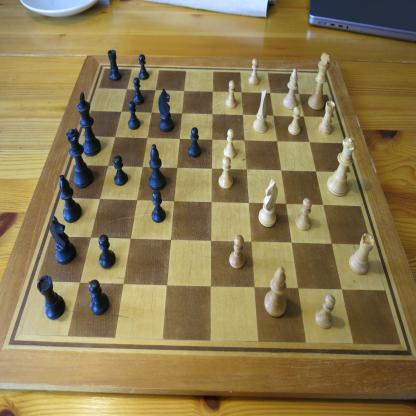black-bishop: (59, 174, 82, 224), (148, 143, 167, 191)
black-king: (76, 91, 102, 157)
black-knight: (48, 216, 76, 266), (158, 87, 174, 133)
black-pawn: (88, 278, 110, 316), (98, 234, 116, 269), (113, 154, 128, 186), (152, 190, 166, 224), (188, 127, 201, 158), (133, 76, 145, 106), (128, 101, 140, 130), (138, 54, 149, 80)
black-queen: (65, 127, 94, 190)
black-rook: (36, 274, 66, 320), (107, 49, 123, 82)
white-bishop: (264, 265, 287, 318), (282, 68, 298, 110)
white-king: (307, 52, 331, 112)
white-knight: (258, 178, 278, 228), (253, 89, 268, 134)
white-pawn: (314, 294, 336, 330), (295, 197, 312, 232), (229, 234, 245, 270), (218, 156, 234, 190), (223, 128, 236, 160), (288, 106, 301, 136), (225, 80, 237, 110), (248, 58, 260, 86)
white-queen: (326, 136, 358, 197)
white-rook: (348, 232, 376, 276), (318, 100, 336, 136)
